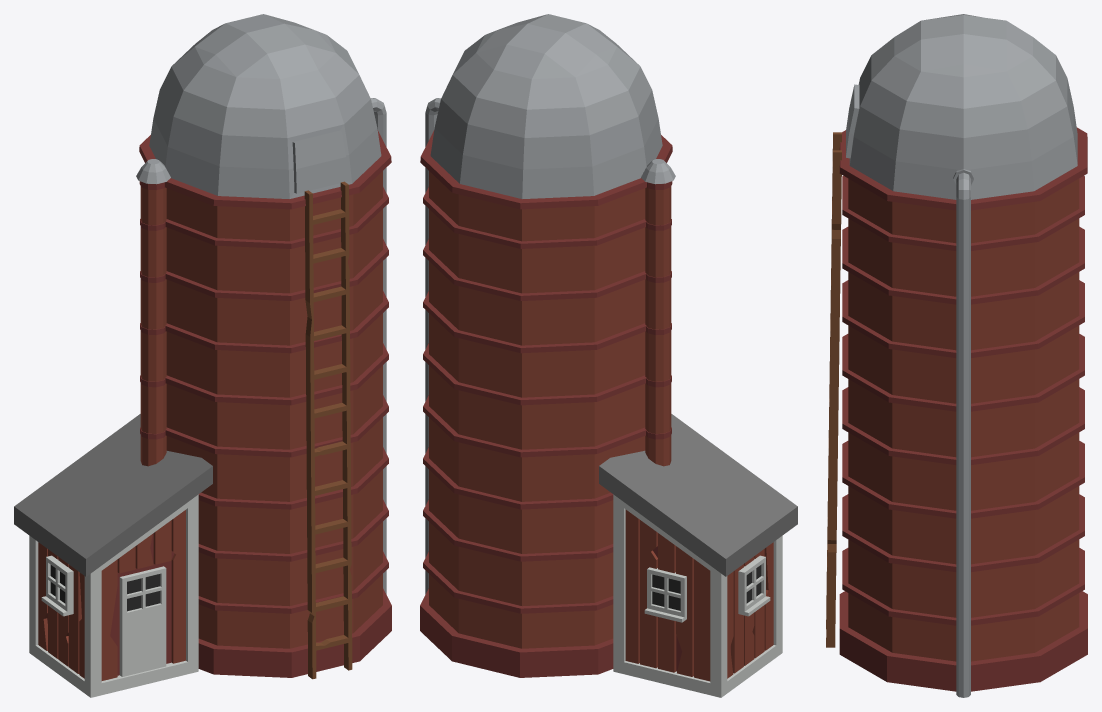
File: silo_house.glb
3 renders of one model, left to right at view 1: azimuth 30°, elevation 25°; view 2: azimuth 150°, elevation 25°; view 3: azimuth 270°, elevation 25°, orthographic. The views are drawn at different scales.
Parts seen in each view (by area): view 1: Silo_House_Cylinder.003; view 2: Silo_House_Cylinder.003; view 3: Silo_House_Cylinder.003.
Boxes of the visible parts, x1,y1,x2,y2 form: Silo_House_Cylinder.003: (14, 14, 391, 697); Silo_House_Cylinder.003: (420, 14, 797, 697); Silo_House_Cylinder.003: (826, 14, 1087, 697).
Bounding box in the file's own units: 5.34 × 9.07 × 3.51.
1 material, 1 textured.
